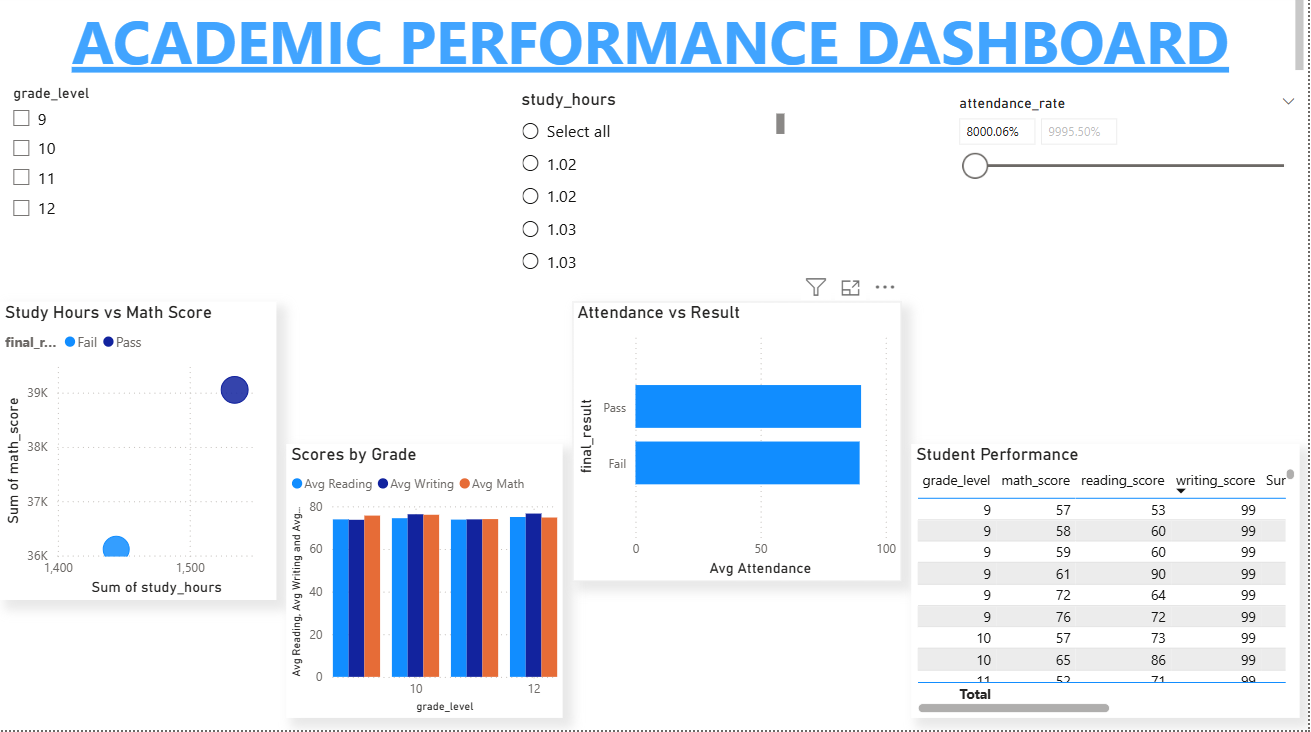

This screenshot's page, from the dashboard's own definition file:
{"tool":"powerbi","page":{"name":"Page 2","canvas":[1280,720],"ordinal":1},"visuals":[{"type":"scatterChart","title":"Study Hours vs Math Score","fields":{"X":["Sum(student_info.study_hours)"],"Y":["student_info.math_score"],"Series":["student_info.final_result"],"Size":["Sum(student_info.attendance_rate)"]},"box":[0,300.8,270.2,292.3],"z":0},{"type":"textbox","box":[0,0,1280.3,83.7],"z":1000},{"type":"clusteredColumnChart","title":"Scores by Grade","fields":{"Category":["student_info.grade_level"],"Y":["student_info.Avg Reading","student_info.Avg Writing","student_info.Avg Math"]},"box":[280,440.2,270.2,267.8],"z":2000},{"type":"clusteredBarChart","title":"Attendance vs Result","fields":{"Category":["student_info.final_result"],"Y":["student_info.Avg Attendance"]},"box":[560.1,300.8,321.6,273.9],"z":3000},{"type":"tableEx","title":"Student Performance","fields":{"Values":["student_info.grade_level","student_info.math_score","student_info.reading_score","student_info.writing_score","Sum(student_info.attendance_rate)","Sum(student_info.study_hours)","student_info.final_result"]},"box":[891.4,440.2,380.3,267.8],"z":4000},{"type":"slicer","fields":{"Values":["student_info.grade_level"]},"box":[0,83.7,279.9,192.1],"z":5000},{"type":"listSlicer","fields":{"Values":["student_info.study_hours"]},"box":[505,93.3,267.6,192.1],"z":6000},{"type":"slicer","fields":{"Values":["student_info.attendance_rate"]},"box":[926.2,93.3,354,192.1],"z":7000}]}

Visuals, with their boxes in screenshot pixels (x1, y1, x2, y2), scaled from the page's 1280x720 canvas onto the 1311x732 screenshot:
"Study Hours vs Math Score" scatterChart: (0,306,277,603)
textbox: (0,0,1310,85)
"Scores by Grade" clusteredColumnChart: (287,448,564,720)
"Attendance vs Result" clusteredBarChart: (574,306,903,584)
"Student Performance" tableEx: (913,448,1302,720)
slicer - student_info.grade_level: (0,85,287,280)
listSlicer - student_info.study_hours: (517,95,791,290)
slicer - student_info.attendance_rate: (949,95,1310,290)
